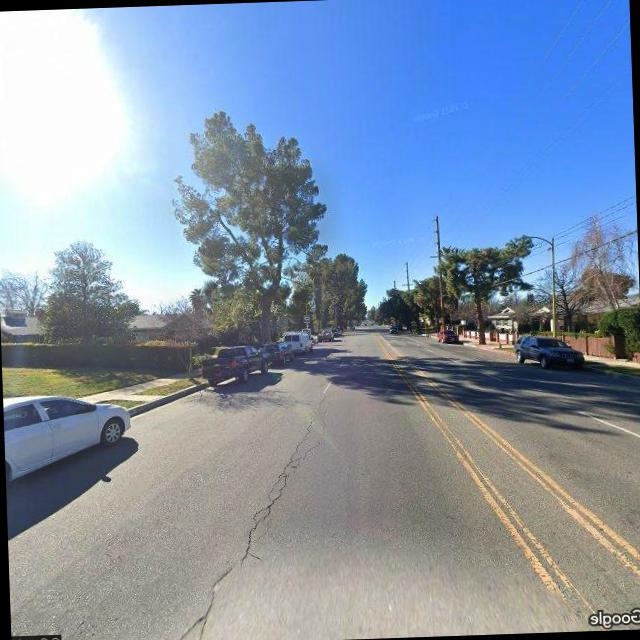pothole: (179, 369, 344, 636)
